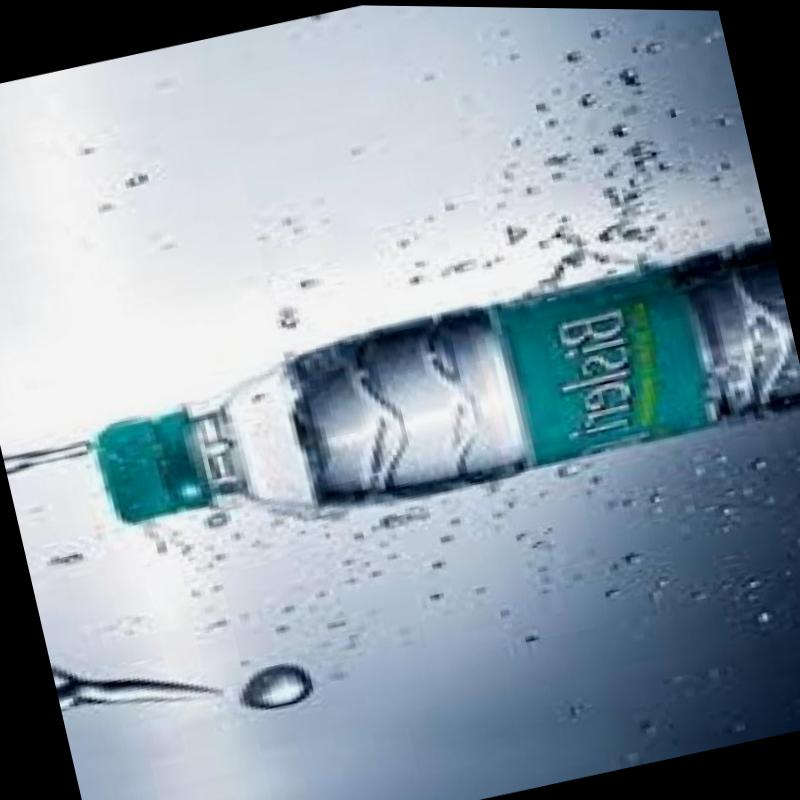botella: (75, 225, 800, 564)
